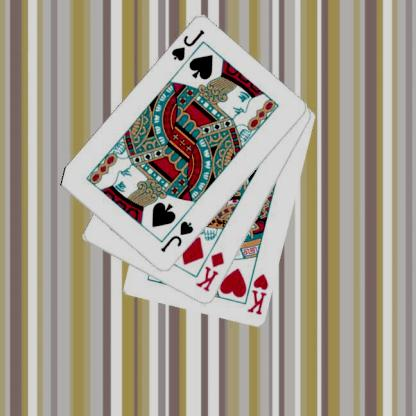JS: (168, 27, 206, 63), (158, 218, 195, 254)
KD: (193, 249, 226, 293)
KH: (245, 271, 270, 316)
